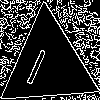I: (23, 39, 53, 87)
